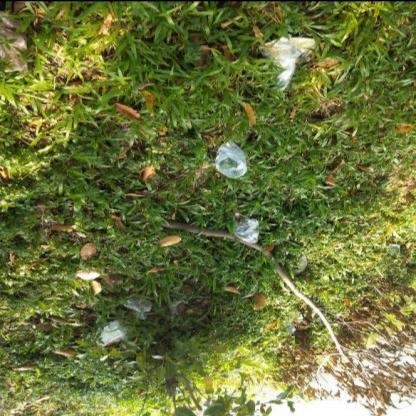Lid: (387, 242, 400, 253)
Other plastic: (402, 266, 408, 272)
Plastic bag - wrapper: (259, 32, 316, 90), (1, 17, 29, 73), (215, 140, 247, 176), (96, 318, 130, 346), (232, 212, 259, 242), (123, 297, 152, 319), (169, 297, 190, 318), (281, 313, 302, 333), (292, 253, 307, 273), (75, 270, 101, 280)
